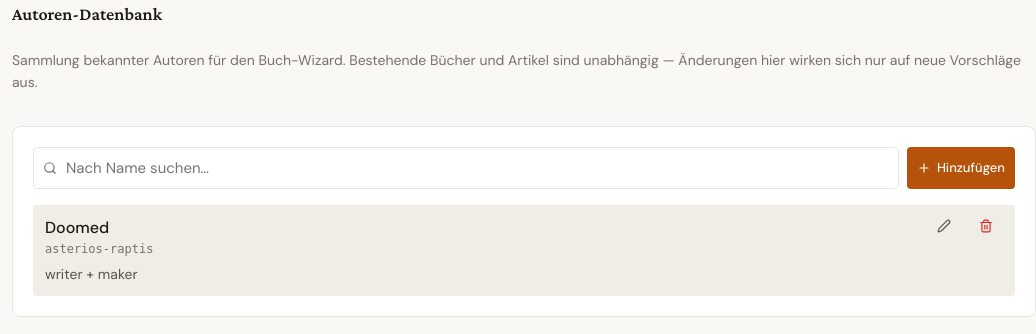
AuthorsDatabase › delete asks for confirmation then DELETEs the row
Expected: the element with test id "authors-database-row-a1" is shown, top-left (33, 205), bottom-right (1015, 296)
Click the button with test id "authors-database-row-delete-a1".
click(986, 226)  # box top-left (969, 215), bottom-right (1003, 237)
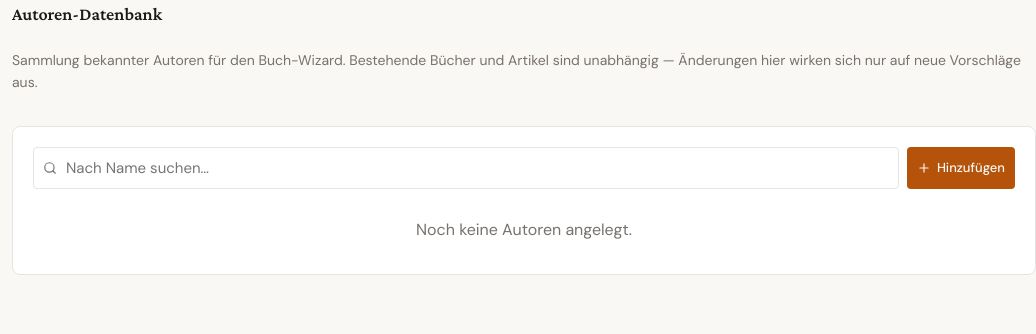
Expected: the element with test id "authors-database-row-a1" is gone
